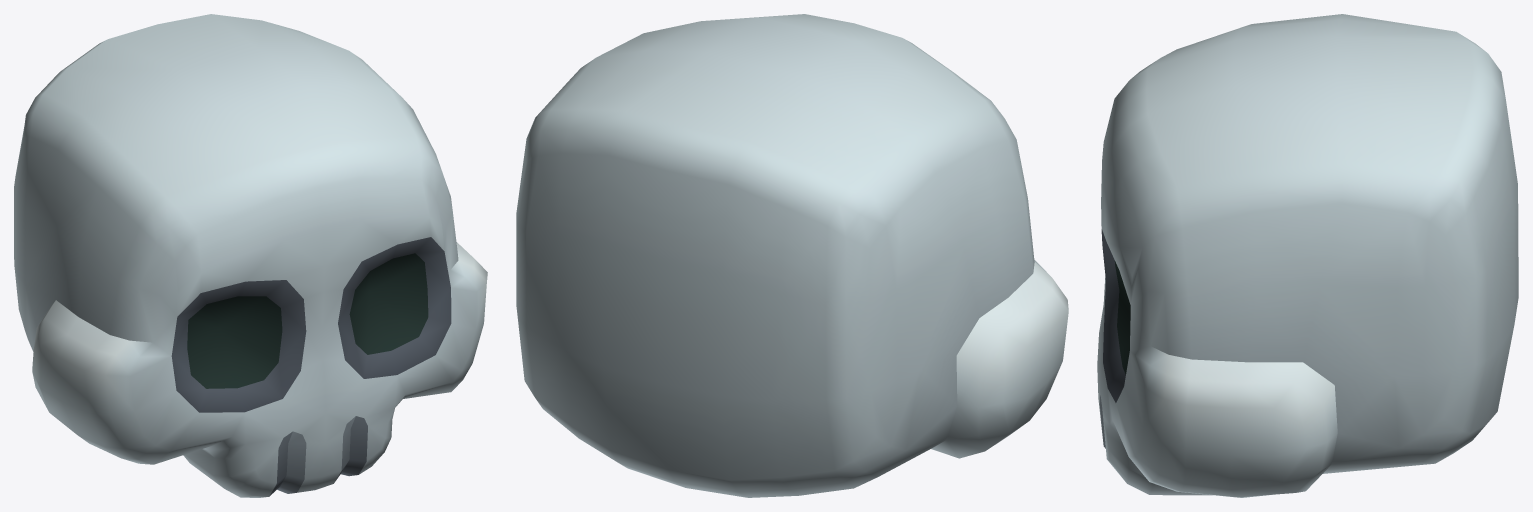
Rendered from bone_skull_LOD_group.fbx.
3 views of the same model, side by side, from view 1: azimuth 30°, elevation 25°; view 2: azimuth 150°, elevation 25°; view 3: azimuth 270°, elevation 25° (orthographic). The views are drawn at different scales.
Visible parts, largest first — view 1: bone_skull_LOD0; view 2: bone_skull_LOD0; view 3: bone_skull_LOD0.
Boxes of the visible parts, bbox=[...] form: bone_skull_LOD0: bbox=[14, 14, 487, 497]; bone_skull_LOD0: bbox=[516, 14, 1068, 497]; bone_skull_LOD0: bbox=[1097, 14, 1518, 497].
Size of what is drawn, in the model's own units: 73.91 by 62.86 by 58.53.
1 material, 1 textured.
